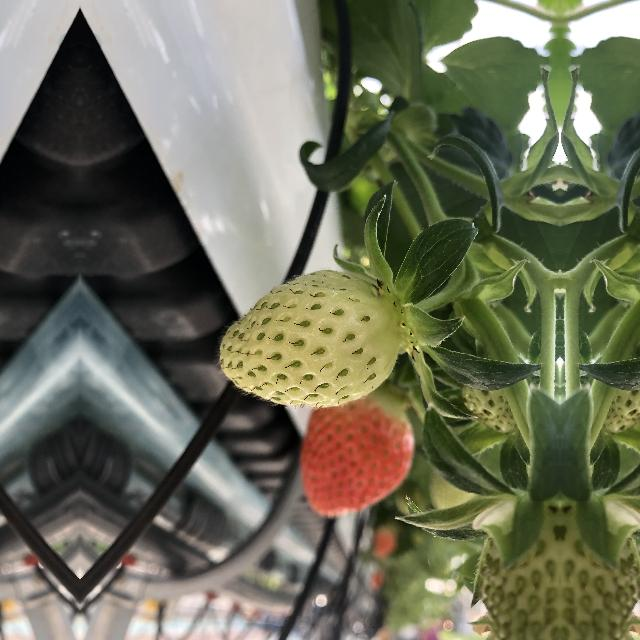Health_100: (296, 390, 418, 510)
Health_25: (212, 254, 412, 412)
